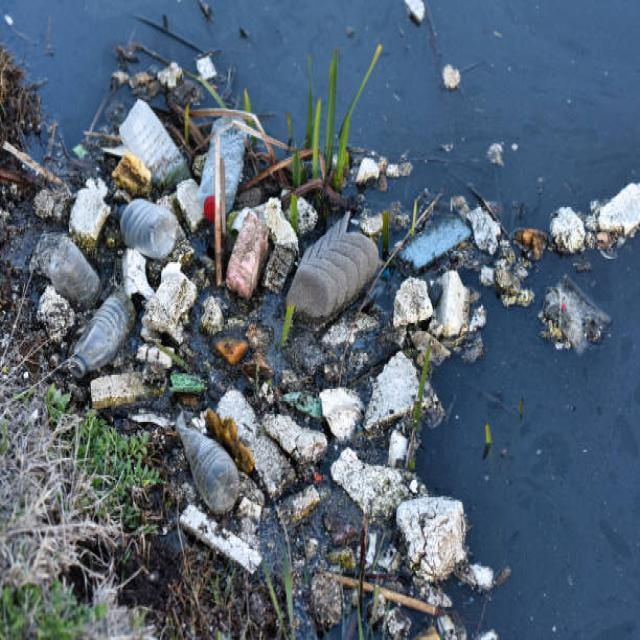plastic: (46, 80, 327, 353)
